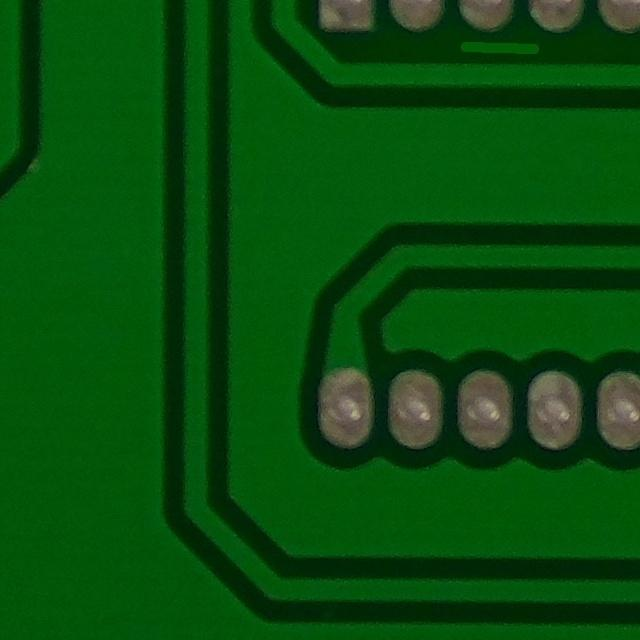spurious_copper: (449, 18, 547, 68)
